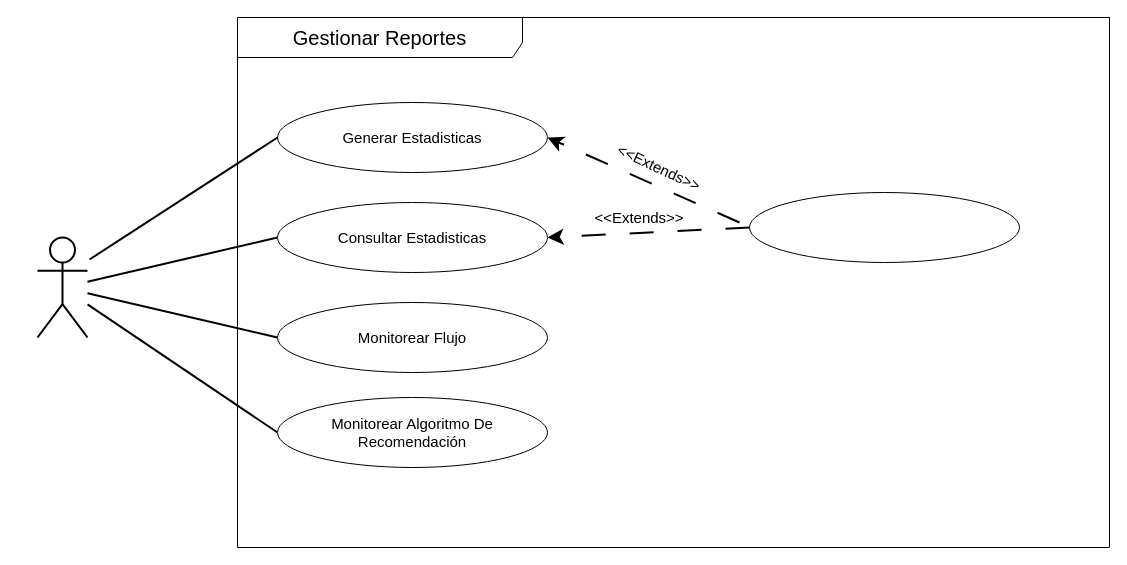
This 1127x565 diagram has some shape labels left out. Here are the shapes that lost their labels. From the top down, the box of each, then its label:
(748, 192, 1020, 262): Exportar reportes
(36, 236, 88, 338): Administrador
